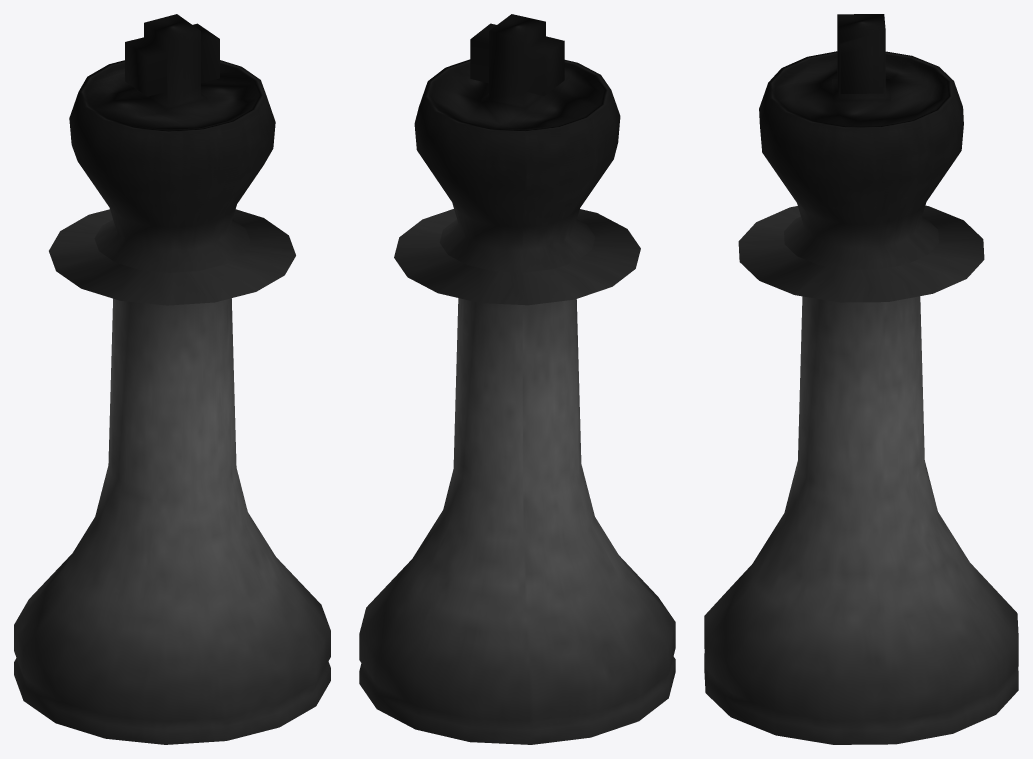
The model's file is queen.glb.
The picture shows the model from 3 angles, left to right: view 1: azimuth 30°, elevation 25°; view 2: azimuth 150°, elevation 25°; view 3: azimuth 270°, elevation 25°; orthographic projection.
Parts seen in each view (by area): view 1: Cylinder; view 2: Cylinder; view 3: Cylinder.
Part boxes in pixels (box(x1,y1,x2,y2)): Cylinder: box(14, 14, 330, 744); Cylinder: box(359, 14, 675, 744); Cylinder: box(704, 14, 1018, 744).
Size of the model in its own units: 8.85 by 20.36 by 8.85.
Materials: 1 (1 with a texture image).
